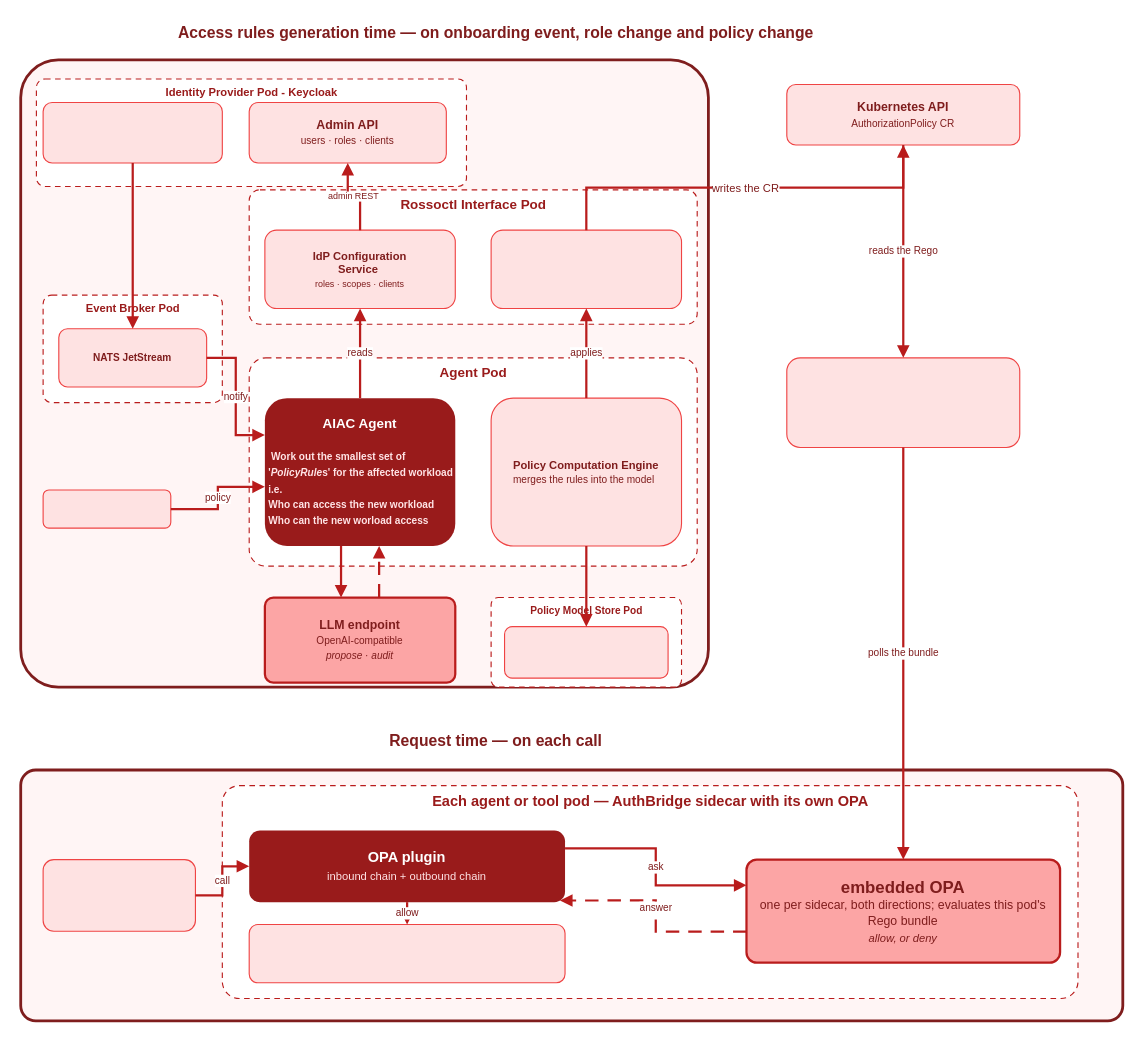
This 1144x1042 diagram has some shape labels left out. The centre of each missing label's shape, as x and y in pixels:
Access control policy: the point at 106,508
agent or tool container (your code): the point at 406,953
bundle-service composes one bundle per pod: the point at 903,402
caller (user or agent): the point at 118,894
PDP Policy Writer (OPA) renders the Rego: the point at 586,269
Policy Model Store policy db: the point at 585,652
Service Provider (SPI) listener publishes on change: the point at 132,132
